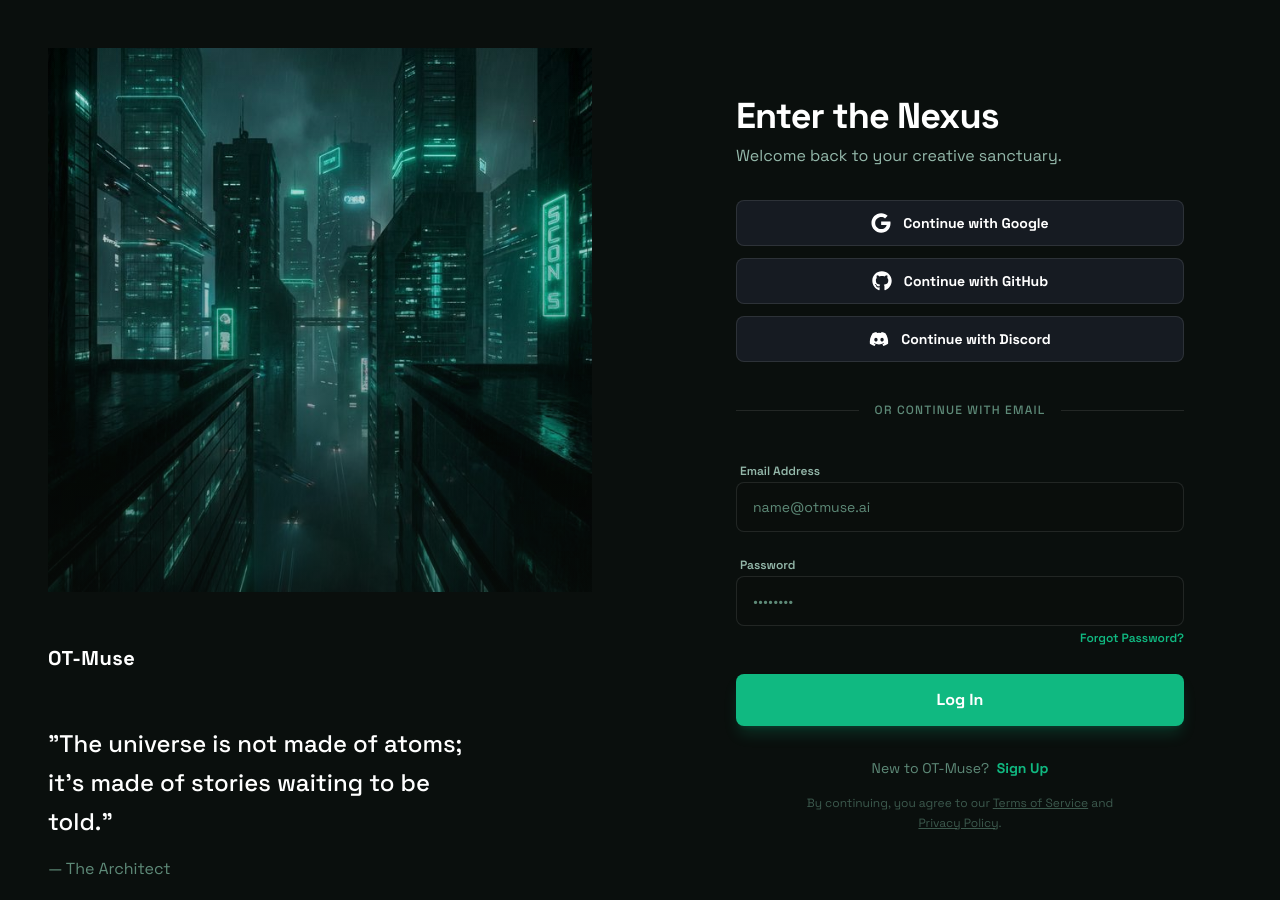
Test case: LoginPage › shows error when submitting with empty password
The image size is (1280, 900).
Type "test@example.com" into the field labelled "Email Address".
click(960, 507); type("test@example.com")  # box left=736, top=482, right=1184, bottom=532
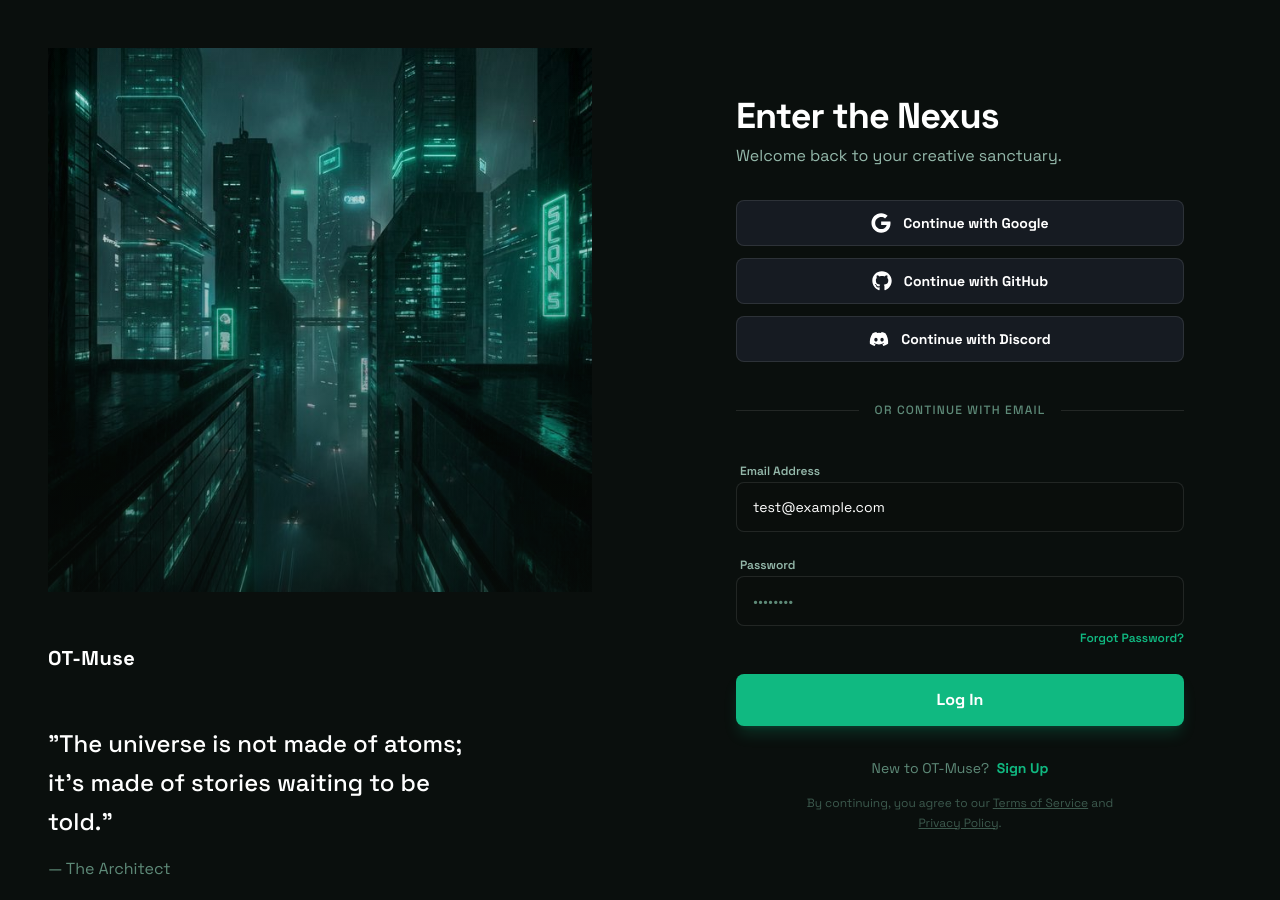
Click the button "Log In".
click(960, 700)  # box left=736, top=674, right=1184, bottom=726
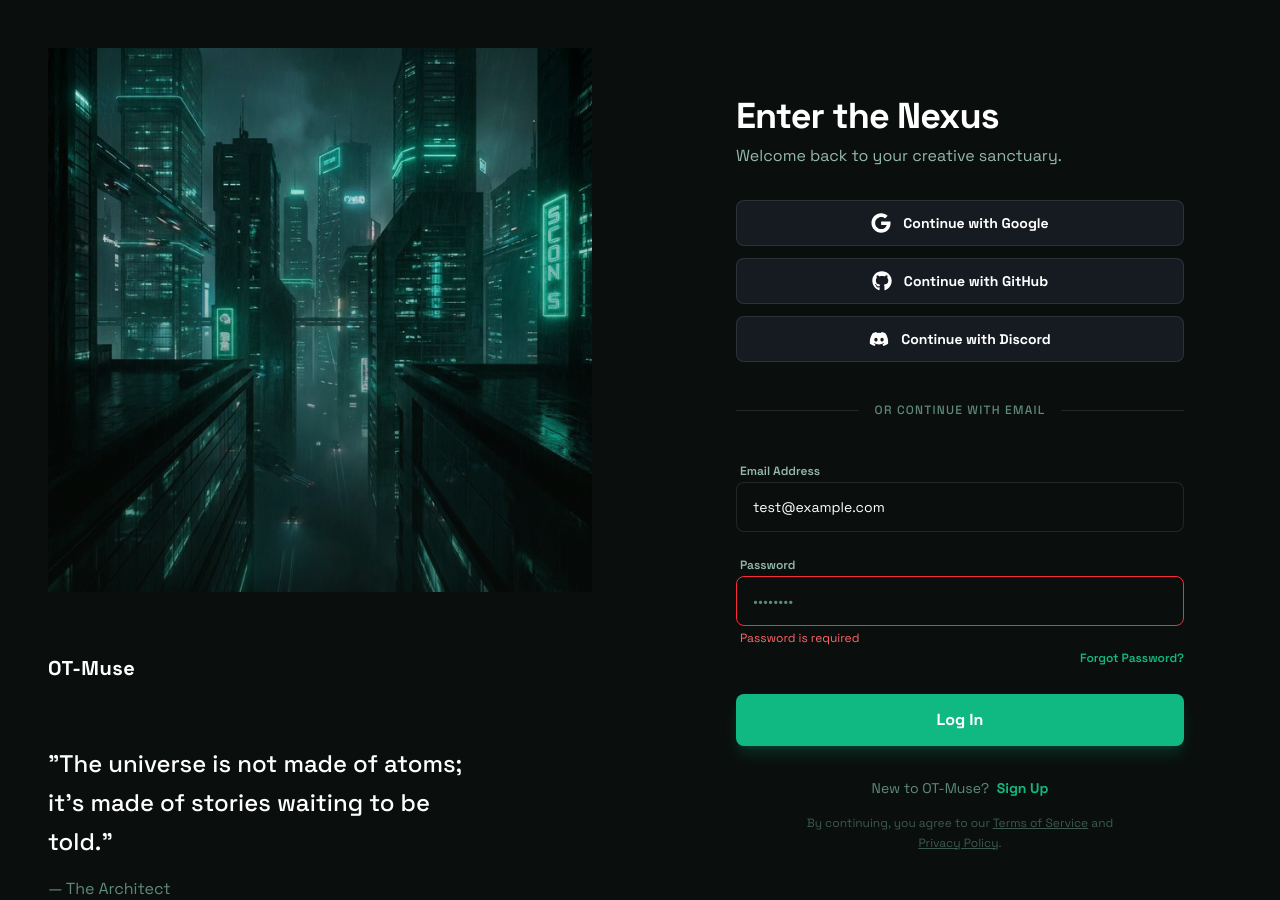
Now the text "Password is required" is shown, box left=740, top=630, right=859, bottom=646
